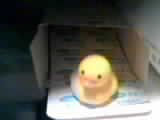duck: (68, 58, 122, 105)
